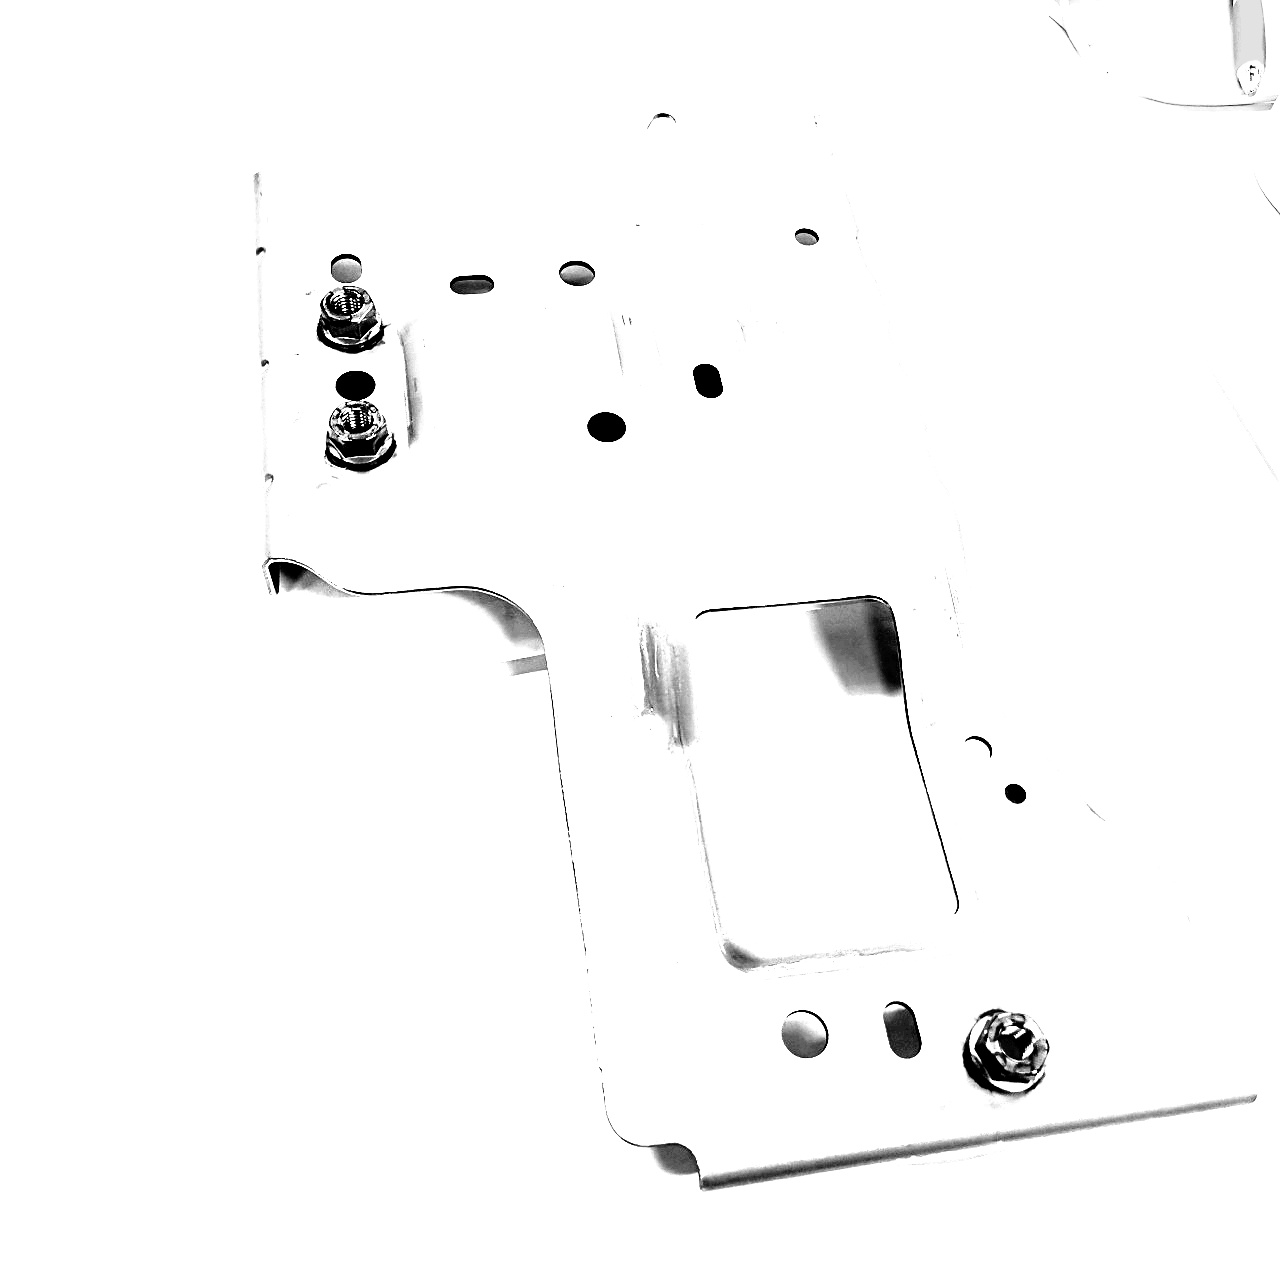dog: (958, 1003, 1051, 1099), (320, 395, 399, 474), (311, 282, 389, 358)
